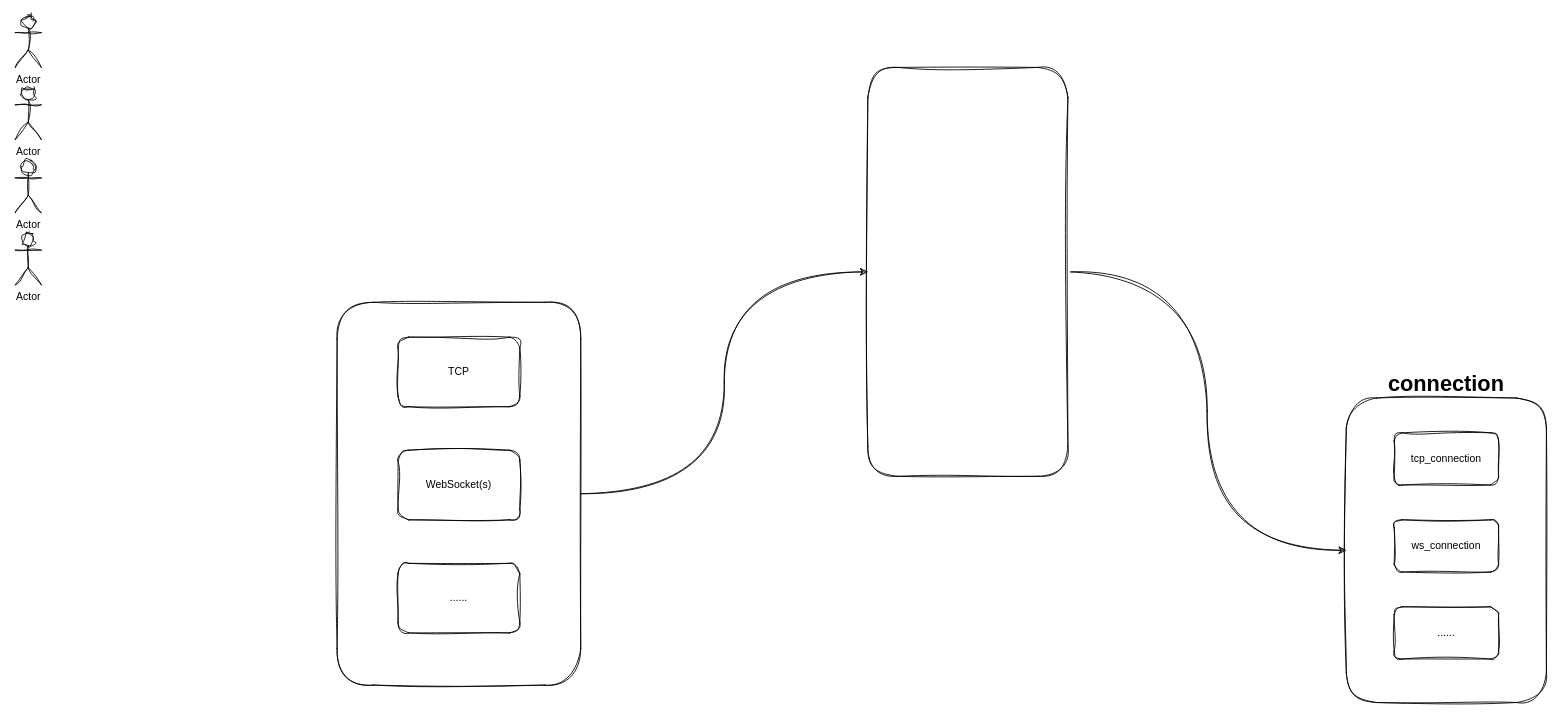
Image size: 1562x718. Some labels were removed from this diagram. Each missing label, with the box of its shape:
connmanager: (867, 67, 1068, 476)
servers: (336, 301, 581, 685)
